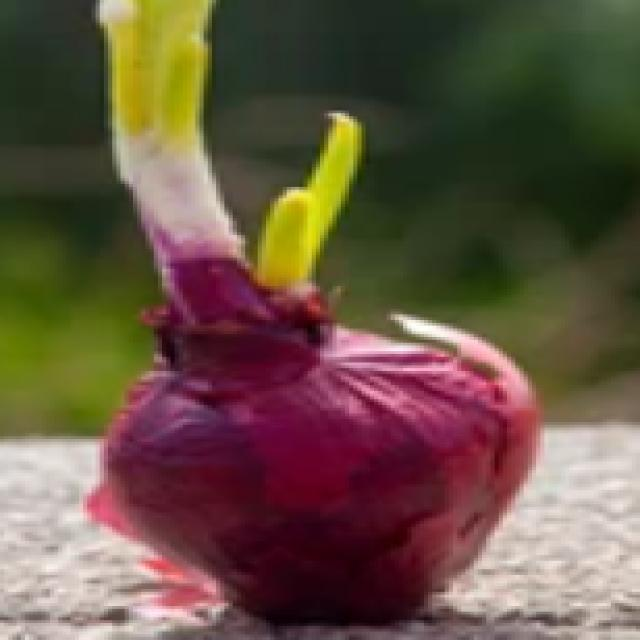sprouting: (83, 11, 345, 343)
